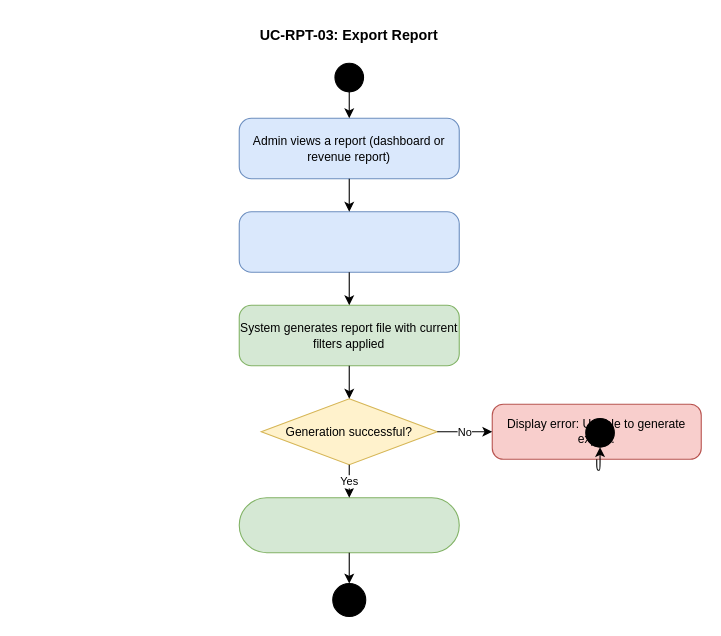
This 721x636 diagram has some shape labels left out. Here are the shapes that lost their labels. From the top down, the centre of each, then its label:
At pixel 348 241: "Admin clicks Export and selects format (PDF / CSV)".
At pixel 348 525: "Trigger file download in browser".
